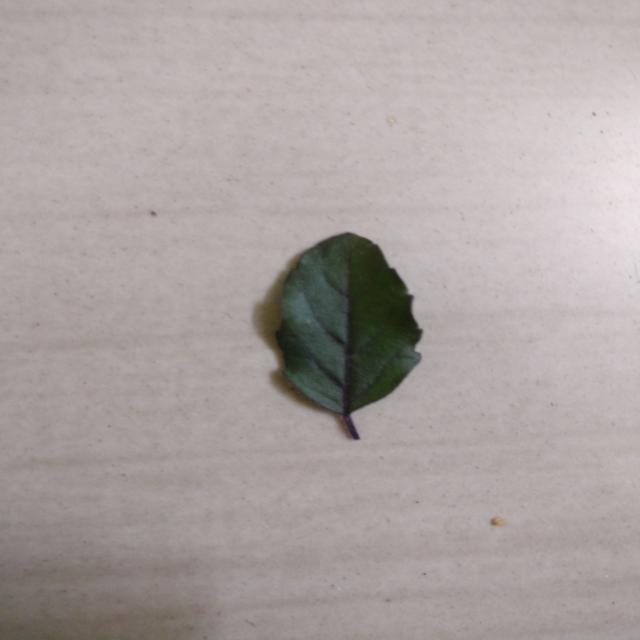tulsi: (277, 232, 422, 439)
